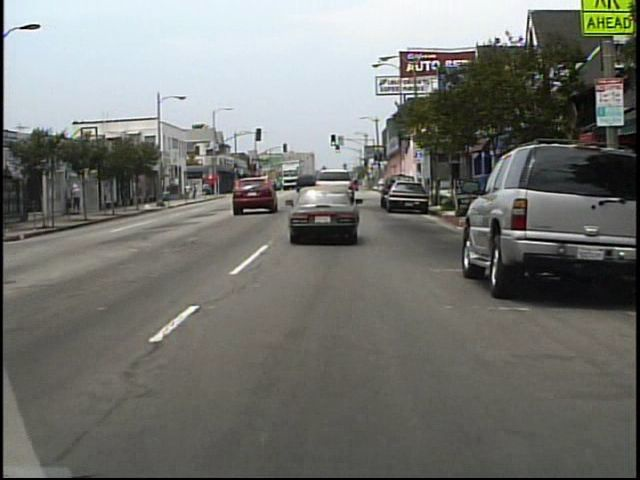person: (72, 183, 85, 215)
